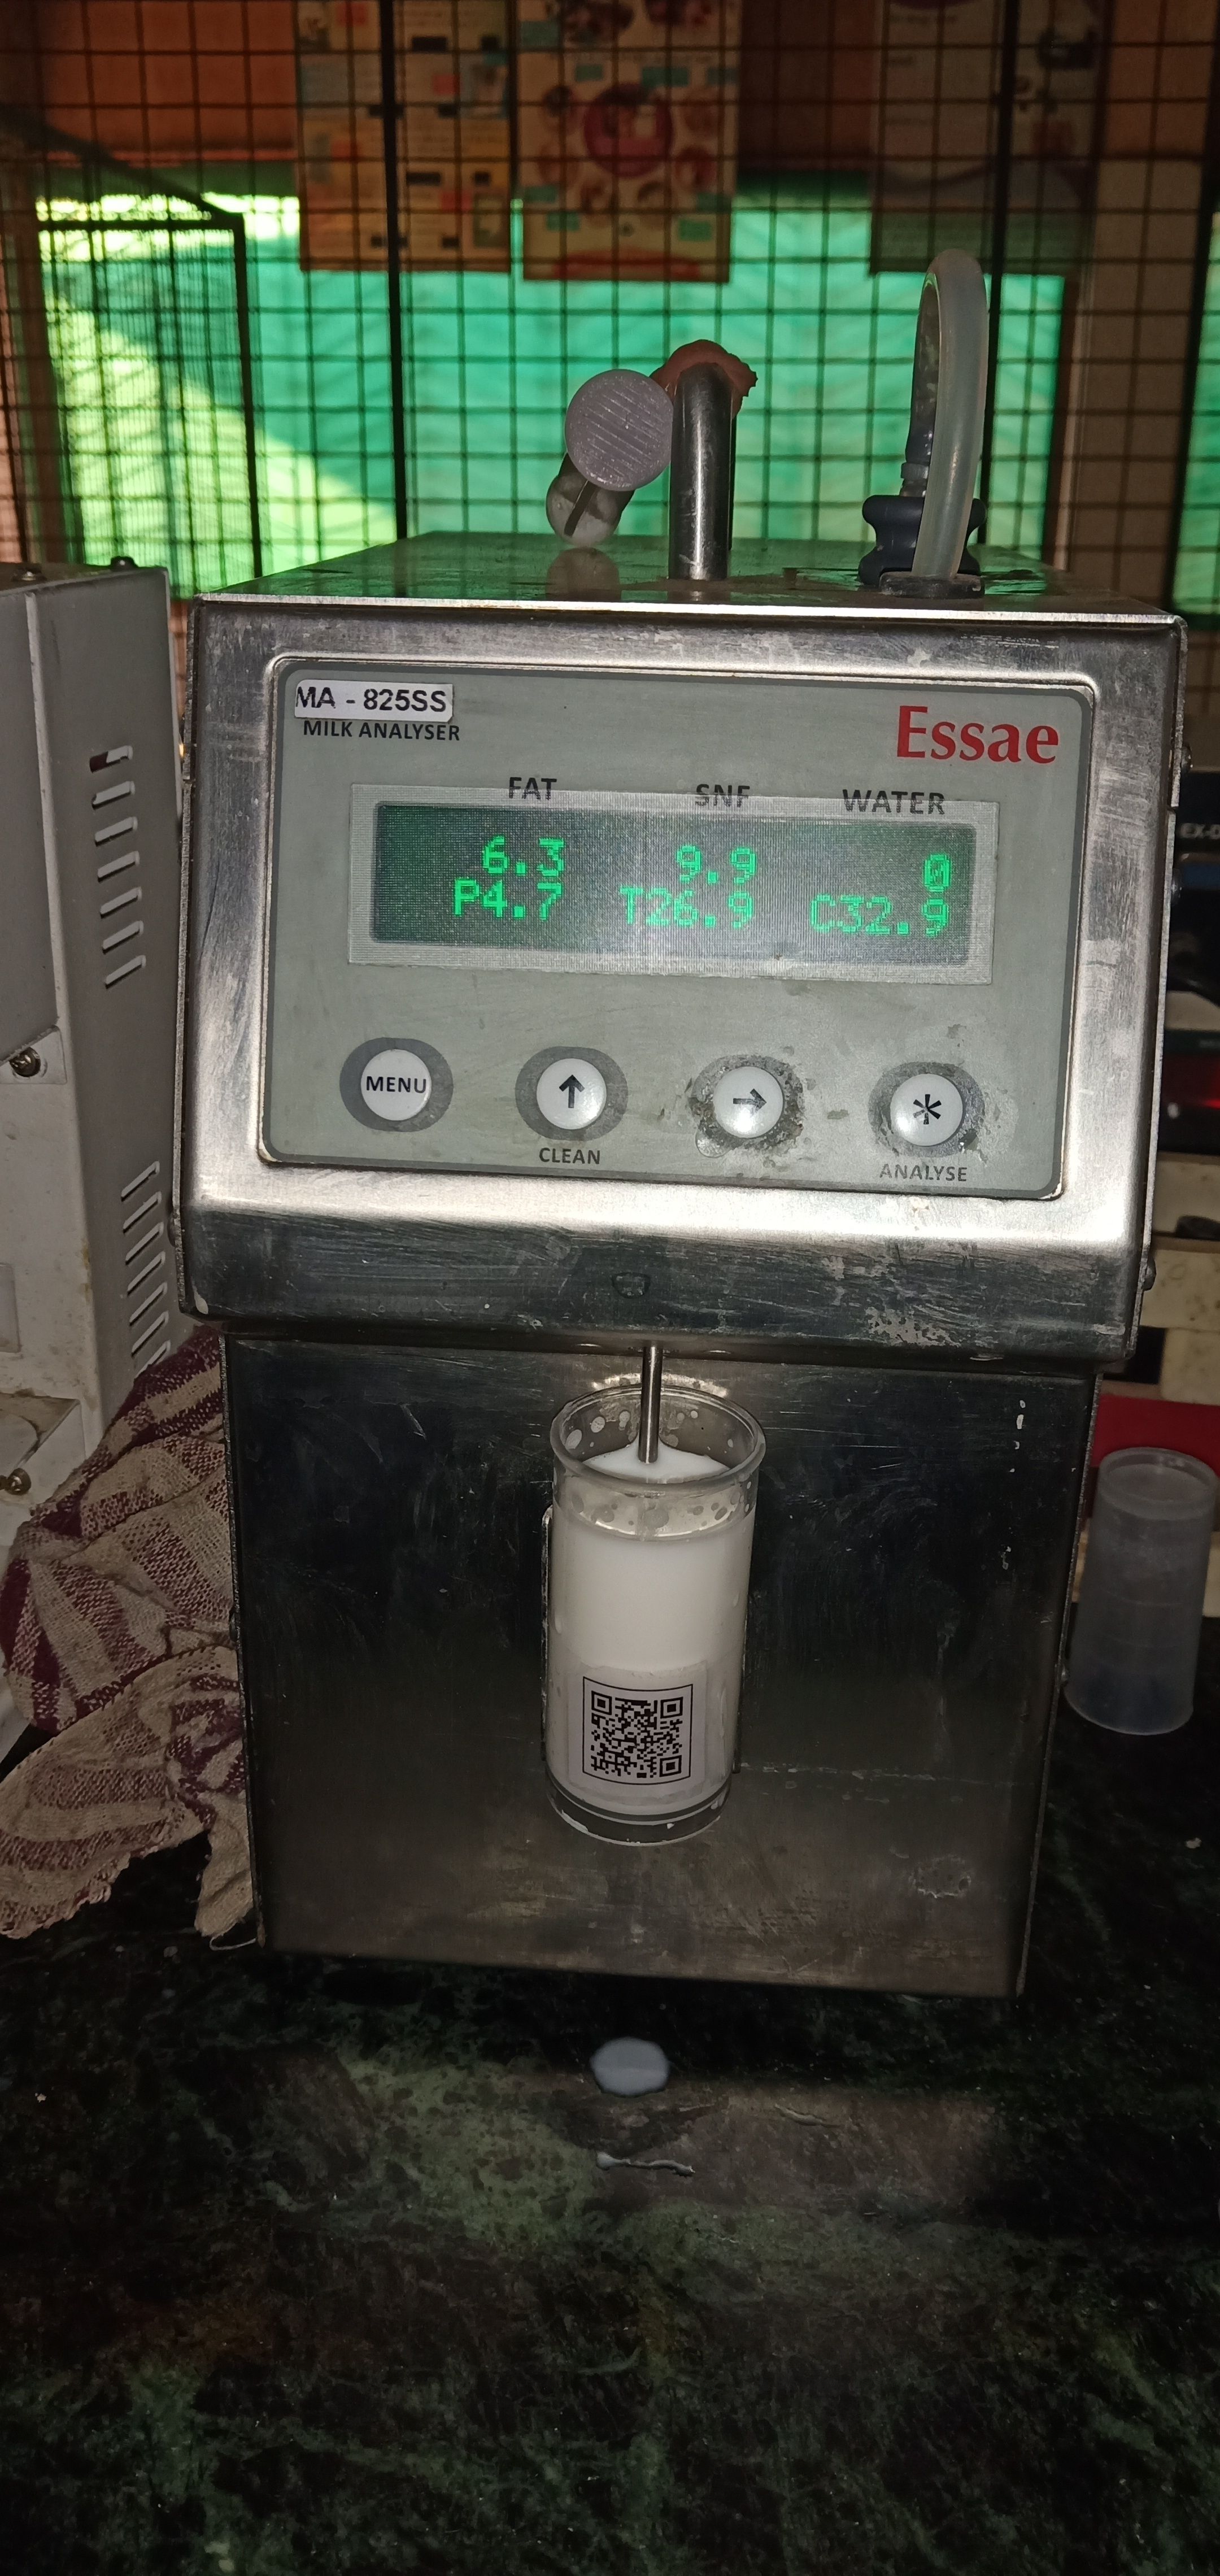lcd: (361, 779, 1007, 986)
qr: (580, 1671, 718, 1817)
